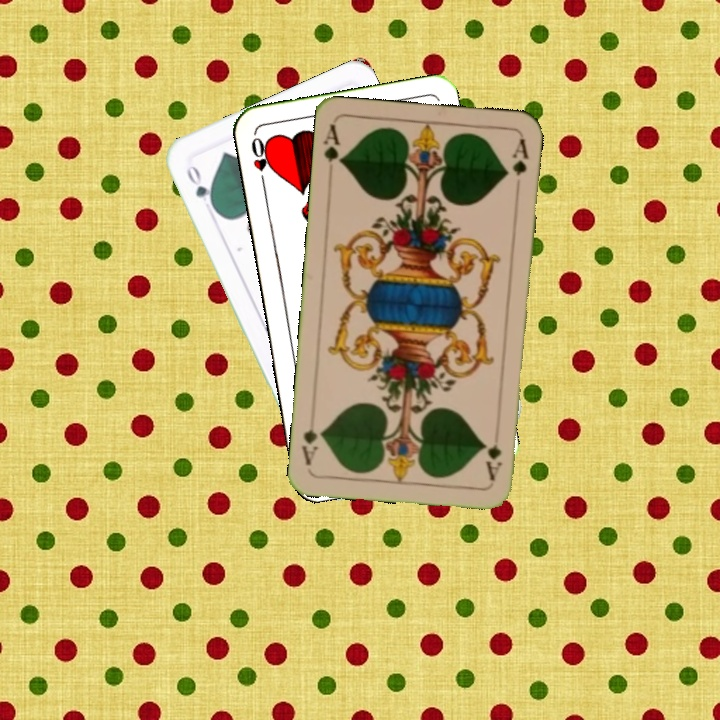GA: (320, 121, 346, 167), (482, 440, 505, 483)
GO: (182, 161, 219, 213)
HO: (247, 133, 273, 190)
